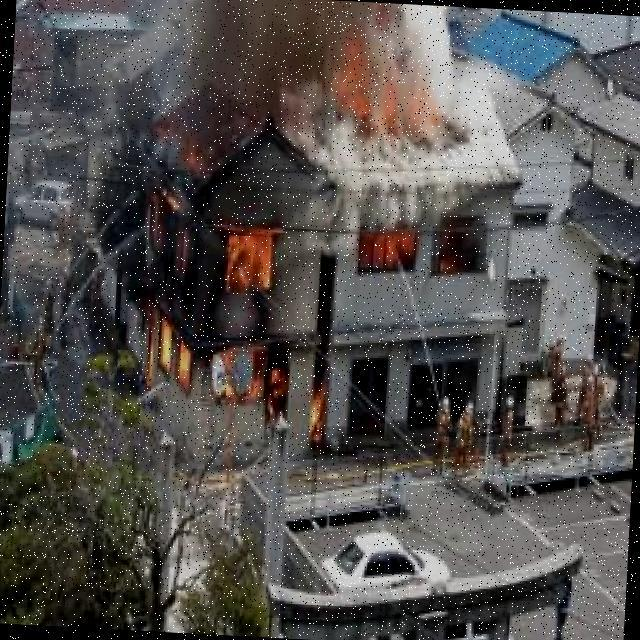Fire: (126, 124, 349, 446), (327, 34, 455, 144), (354, 225, 468, 283)
